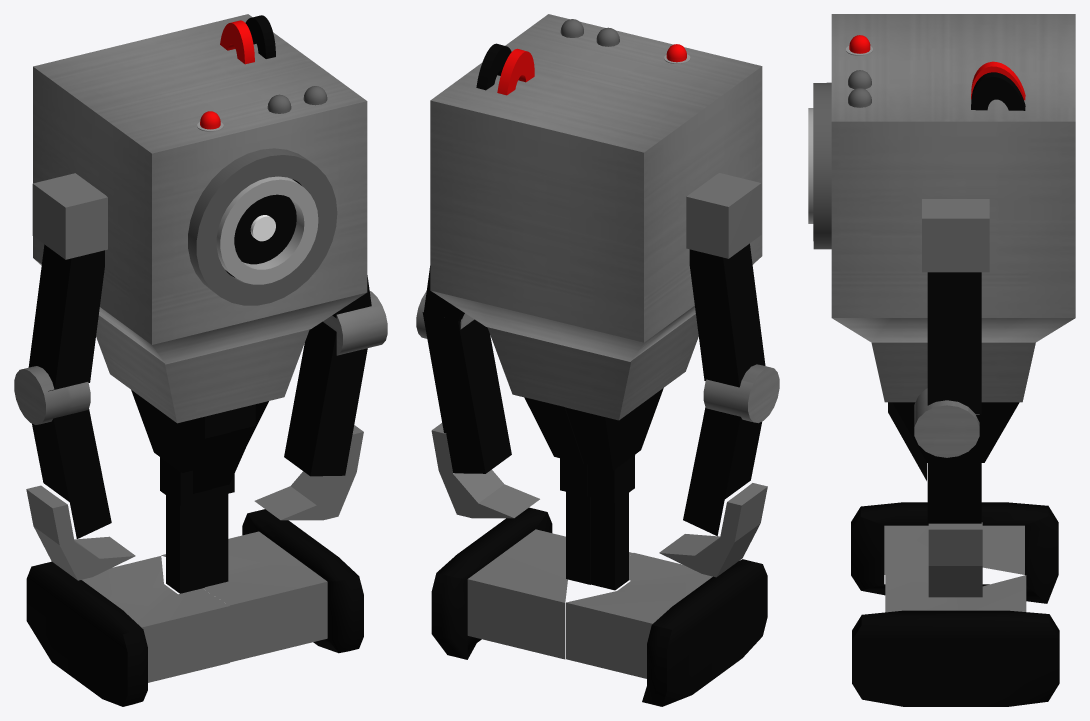
Rendered from robotito.glb.
The picture shows the model from 3 angles, left to right: view 1: azimuth 30°, elevation 25°; view 2: azimuth 150°, elevation 25°; view 3: azimuth 270°, elevation 25°; orthographic projection. The views are drawn at different scales.
Visible parts, largest first — view 1: Box004, tronco4, pies, Rectangle001, Torus001, BRAZO MUÑECA001, BRAZO, tronco 2, BRAZO MUÑECA, ytonco4, hombro 2, Torus004 (+8 smaller); view 2: Box004, tronco4, pies, Rectangle001, BRAZO MUÑECA001, BRAZO, BRAZO MUÑECA, tronco 2, ytonco4, hombro 2, robot 2, mano 1 (+5 smaller); view 3: Box004, pies, tronco4, BRAZO001, Rectangle001, hombro, mano 1, BRAZO MUÑECA001, Cylinder002, Torus001, tronco 2, Arc001 (+2 smaller).
Boxes of the visible parts, box(x1,y1,x2,y2) form: Box004: box(33, 14, 367, 364); tronco4: box(82, 531, 327, 682); pies: box(26, 509, 363, 706); Rectangle001: box(96, 315, 309, 423); Torus001: box(188, 148, 337, 305); BRAZO MUÑECA001: box(284, 321, 367, 476); BRAZO: box(28, 244, 104, 389); tronco 2: box(131, 390, 268, 493); BRAZO MUÑECA: box(32, 389, 111, 538); ytonco4: box(166, 494, 228, 593); hombro 2: box(32, 173, 107, 259); Torus004: box(216, 176, 318, 284); Box004: box(430, 14, 762, 361); tronco4: box(467, 529, 712, 678); pies: box(431, 507, 767, 706); Rectangle001: box(487, 314, 698, 420); BRAZO MUÑECA001: box(422, 312, 511, 473); BRAZO: box(689, 243, 765, 387); BRAZO MUÑECA: box(683, 407, 761, 536); tronco 2: box(524, 388, 663, 470); ytonco4: box(566, 492, 628, 590); hombro 2: box(686, 173, 761, 258); robot 2: box(659, 483, 767, 577); mano 1: box(431, 423, 539, 518); Box004: box(831, 14, 1075, 342); pies: box(851, 502, 1059, 706); tronco4: box(884, 525, 1026, 612); BRAZO001: box(927, 272, 981, 414); Rectangle001: box(871, 342, 1035, 402); hombro: box(922, 199, 989, 272); mano 1: box(928, 522, 982, 597); BRAZO MUÑECA001: box(927, 415, 981, 523); Cylinder002: box(914, 388, 979, 457); Torus001: box(813, 82, 831, 249); tronco 2: box(888, 402, 1019, 480); Arc001: box(971, 72, 1025, 110).
Bounding box in the file's own units: 1.34 × 2.27 × 0.8935.
9 materials, 1 textured.
